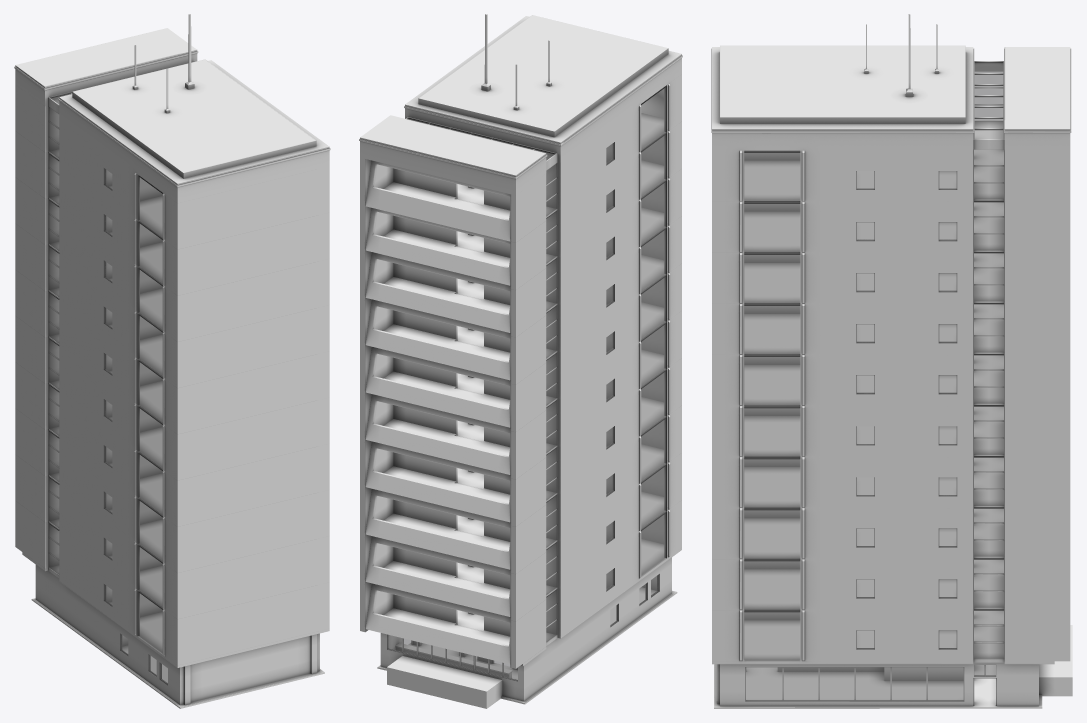
Rendered from residential_006.obj.
3 views of the same model, side by side, from view 1: azimuth 30°, elevation 25°; view 2: azimuth 150°, elevation 25°; view 3: azimuth 270°, elevation 25° (orthographic). The views are drawn at different scales.
Parts seen in each view (by area): view 1: Residential_Buildings_006_Cube.014; view 2: Residential_Buildings_006_Cube.014; view 3: Residential_Buildings_006_Cube.014.
Boxes of the visible parts, x1=… form: Residential_Buildings_006_Cube.014: x1=14, y1=14, x2=330, y2=708; Residential_Buildings_006_Cube.014: x1=359, y1=14, x2=682, y2=708; Residential_Buildings_006_Cube.014: x1=711, y1=14, x2=1072, y2=708.
Size of the model in its own units: 12.59 by 47.19 by 23.1.
2 materials, 1 textured.
